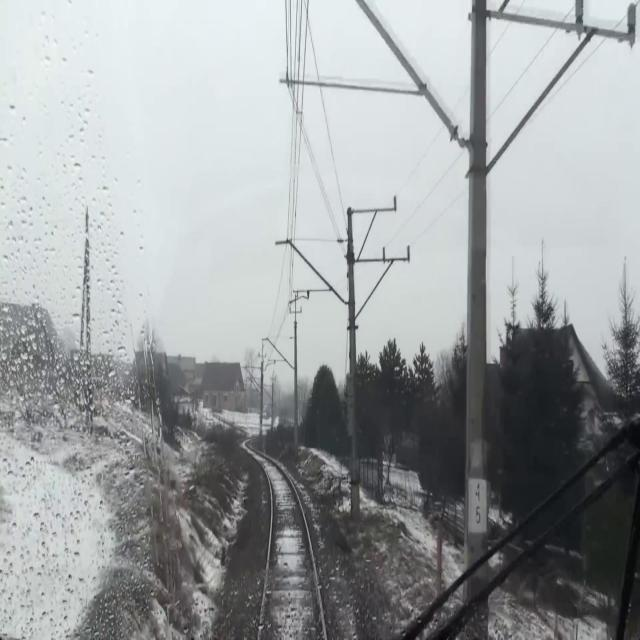rail-track: (263, 460, 322, 639)
